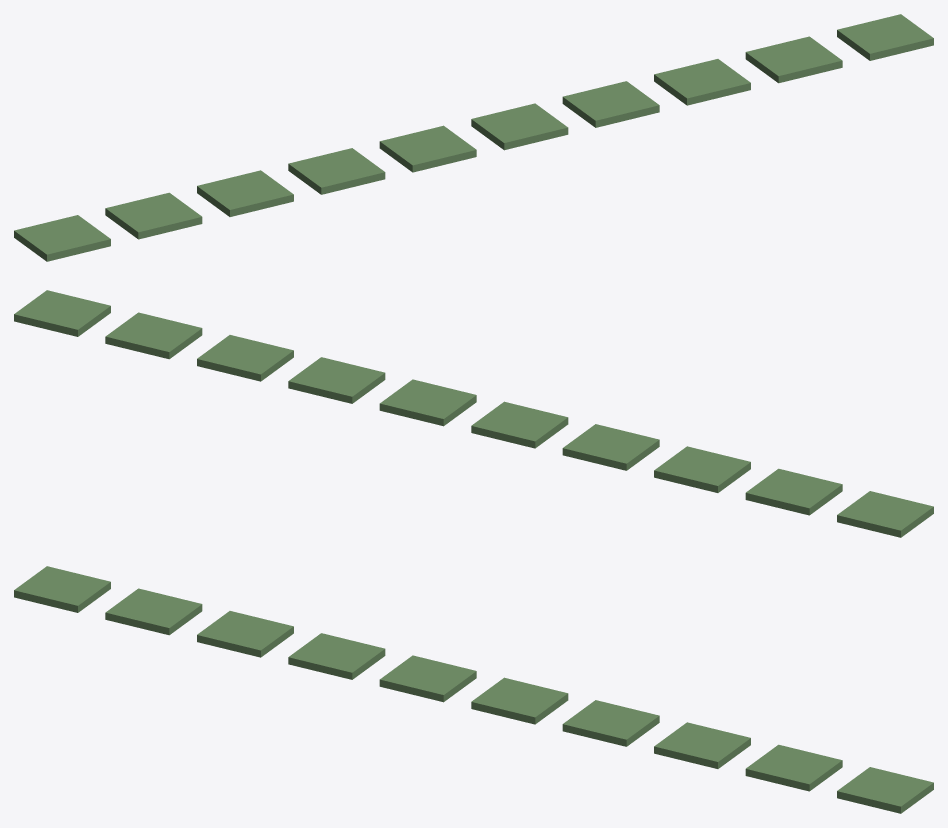
The model's file is HeroPath.glb.
3 renders of one model, top to bottom at view 1: azimuth 30°, elevation 25°; view 2: azimuth 150°, elevation 25°; view 3: azimuth 330°, elevation 25°, orthographic.
Parts seen in each view (by area): view 1: HeroSlab2, HeroSlab5, HeroSlab6, HeroSlab9, HeroSlab4, HeroSlab7, HeroSlab3, HeroSlab8, HeroSlab1, HeroSlab10; view 2: HeroSlab2, HeroSlab5, HeroSlab6, HeroSlab9, HeroSlab4, HeroSlab7, HeroSlab3, HeroSlab8, HeroSlab1, HeroSlab10; view 3: HeroSlab2, HeroSlab5, HeroSlab6, HeroSlab9, HeroSlab4, HeroSlab7, HeroSlab3, HeroSlab8, HeroSlab1, HeroSlab10.
Part boxes in pixels (x1,y1,x2,y2): HeroSlab2: (105,192,202,239); HeroSlab5: (379,125,476,172); HeroSlab6: (471,103,568,150); HeroSlab9: (745,36,842,83); HeroSlab4: (288,148,385,194); HeroSlab7: (562,81,659,127); HeroSlab3: (197,170,293,216); HeroSlab8: (654,59,750,105); HeroSlab1: (14,215,110,261); HeroSlab10: (837,14,933,60); HeroSlab2: (745,468,842,515); HeroSlab5: (471,401,568,448); HeroSlab6: (379,379,476,426); HeroSlab9: (105,312,202,359); HeroSlab4: (562,424,659,470); HeroSlab7: (288,357,385,403); HeroSlab3: (654,446,750,492); HeroSlab8: (197,335,293,381); HeroSlab1: (837,491,933,537); HeroSlab10: (14,290,110,336); HeroSlab2: (105,588,202,635); HeroSlab5: (379,655,476,702); HeroSlab6: (471,677,568,724); HeroSlab9: (745,744,842,791); HeroSlab4: (288,633,385,679); HeroSlab7: (562,700,659,746); HeroSlab3: (197,611,293,657); HeroSlab8: (654,722,750,768); HeroSlab1: (14,566,110,612); HeroSlab10: (837,767,933,813).
Bounding box in the file's own units: 7.76 × 0.06 × 0.5.
